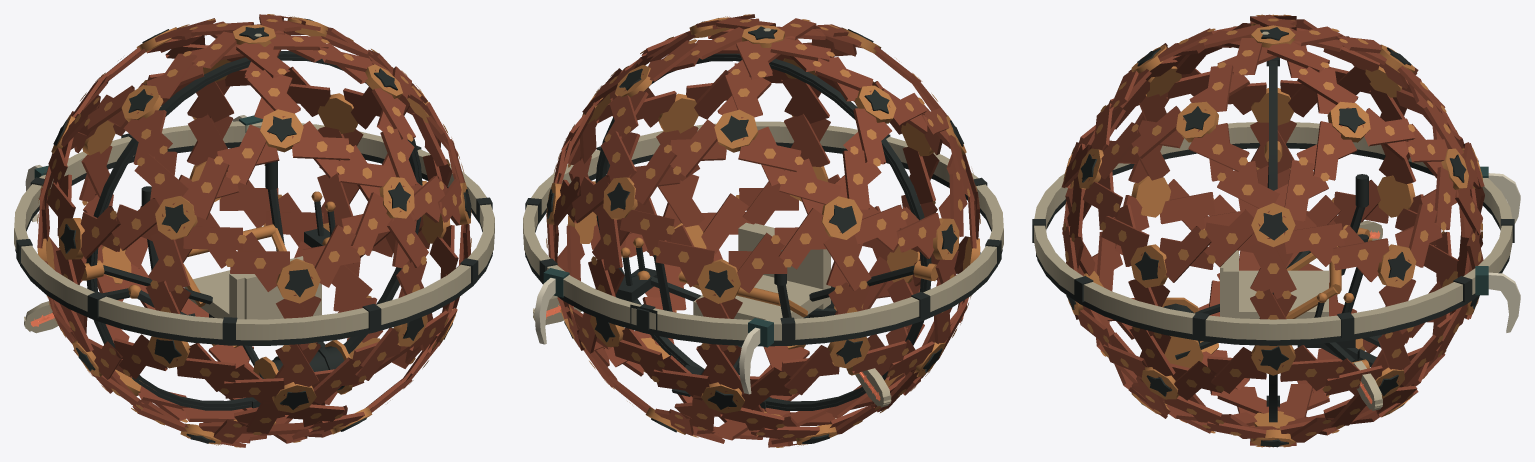
The model's file is shell_tarn_redjaw_teeth.glb.
3 views of the same model, side by side, from view 1: azimuth 30°, elevation 25°; view 2: azimuth 150°, elevation 25°; view 3: azimuth 270°, elevation 25° (orthographic).
Parts seen in each view (by area): view 1: Core, WeaponRing, Pod, Gyro, GyroInner, PullDrum, ClawUpper.L; view 2: Core, WeaponRing, Pod, Gyro, GyroInner, Blade.L, Blade.R, ClawUpper.L; view 3: Core, WeaponRing, Pod, Gyro, Blade.R, Blade.L, ClawUpper.R.
Part boxes in pixels (x1,y1,x2,y2): Core: (37,14,471,447); WeaponRing: (14,115,494,345); Pod: (82,161,426,394); Gyro: (86,51,422,410); GyroInner: (93,57,419,408); PullDrum: (272,346,344,390); ClawUpper.L: (24,301,53,331); Core: (546,14,980,447); WeaponRing: (523,121,1003,347); Pod: (592,181,938,396); Gyro: (595,53,931,410); GyroInner: (599,57,924,408); Blade.L: (739,327,760,394); Blade.R: (534,278,555,344); ClawUpper.L: (861,368,891,407); Core: (1061,14,1484,447); WeaponRing: (1032,122,1514,345); Pod: (1162,141,1381,368); Gyro: (1269,60,1277,422); Blade.R: (1488,272,1520,332); Blade.L: (1488,173,1520,223); ClawUpper.R: (1353,361,1382,410).
Size of the model in its own units: 2.16 by 1.97 by 2.2.
